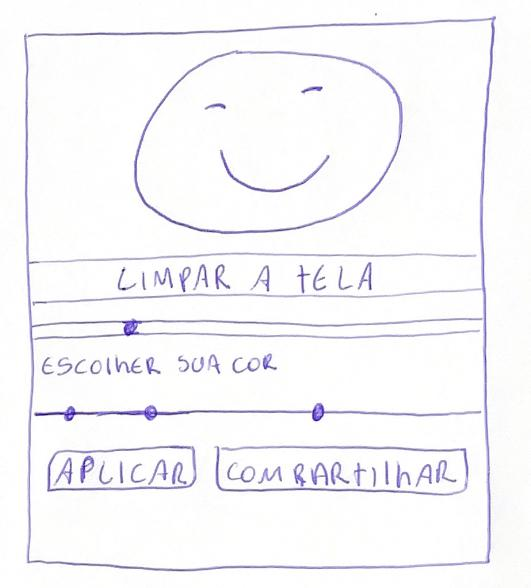Button: (28, 253, 484, 304), (215, 445, 469, 496), (47, 445, 197, 492)
Image: (135, 51, 403, 236)
Label: (40, 353, 278, 378)
Screen: (25, 17, 495, 571)
Slider: (32, 316, 484, 337), (190, 403, 482, 421), (34, 402, 108, 424), (108, 405, 189, 422)
